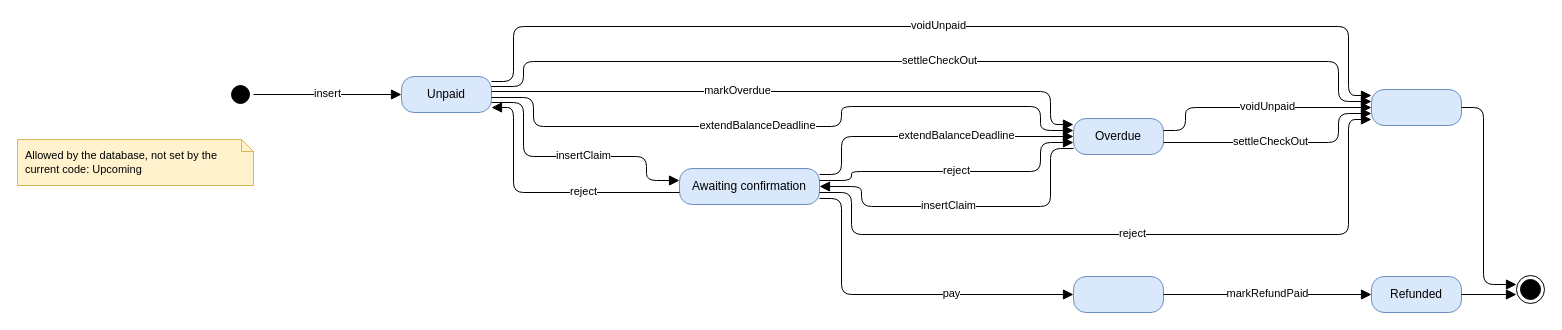
This 1562x330 diagram has some shape labels left out. The centre of each missing label's shape, as x and y in pixels:
Paid: pixel 1118 294
Void: pixel 1416 107
